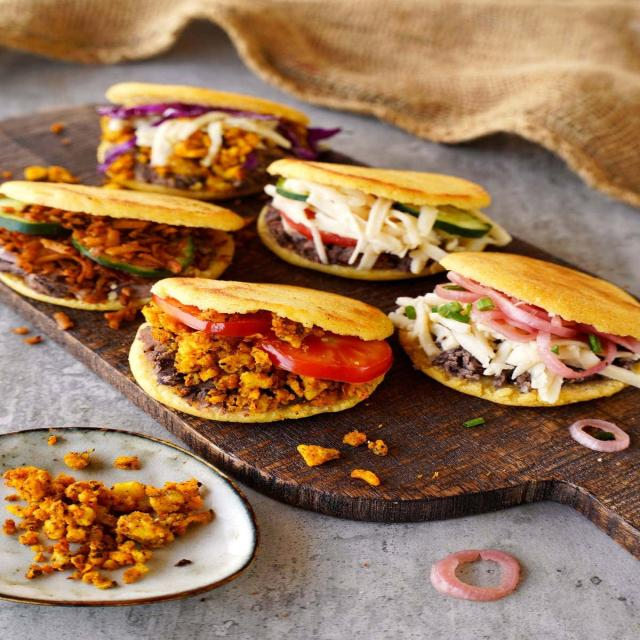arepa: (416, 244, 629, 393)
